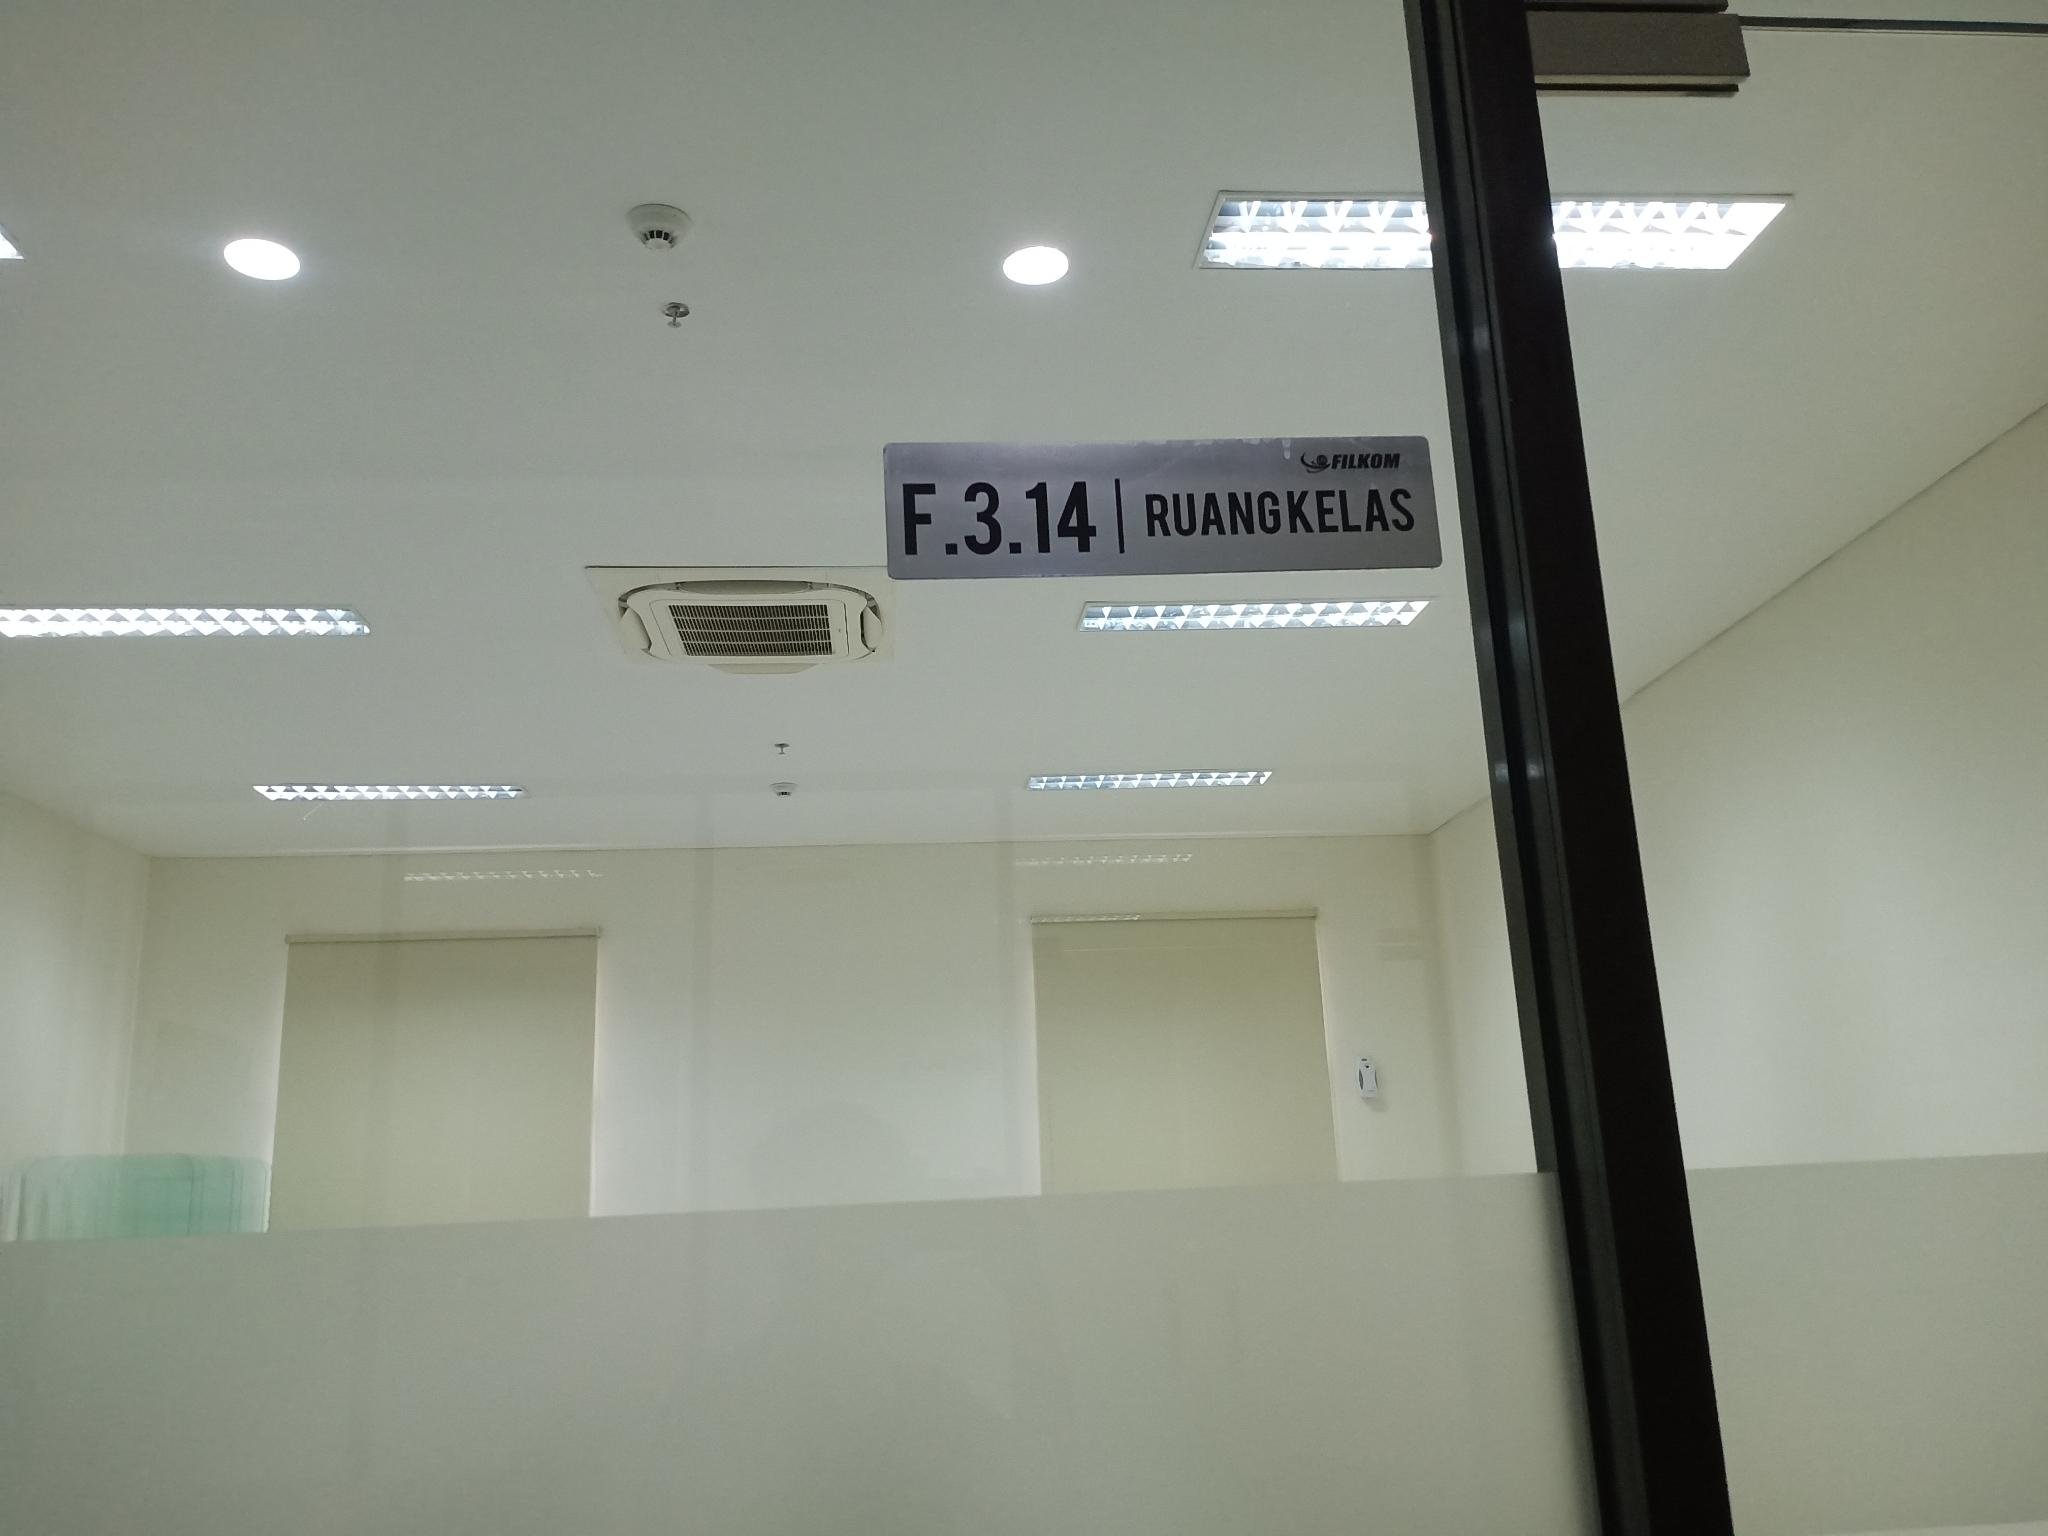plate: (880, 436, 1440, 579)
